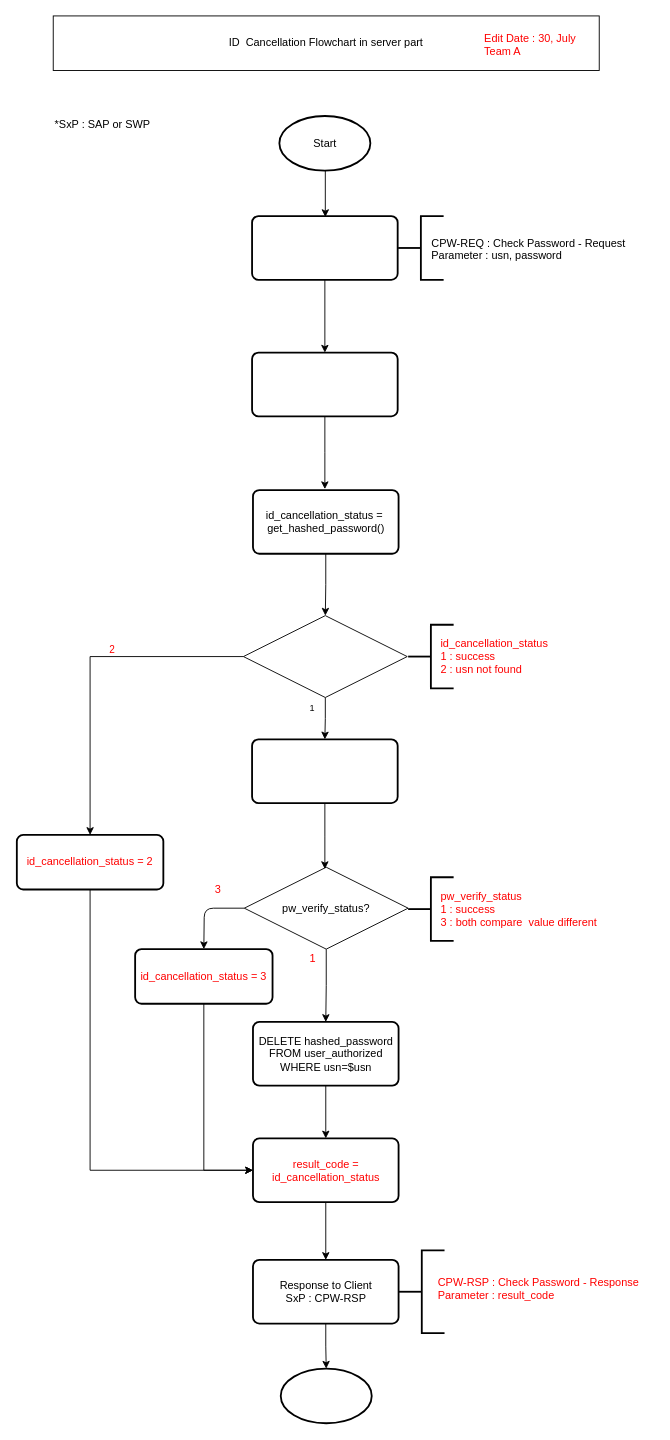
This 670x1440 diagram has some shape labels left out. Each missing label, with the centre of its shape:
"END" goes at (325,1395).
"id_cancellation_status?" goes at (325,656).
"pw_verify_status = password_verify($user_pw, $hashed_password)" goes at (324,771).
"Recieve from Client *SxP : CPW-REQ" goes at (324,247).
"SELECT hashed_password FROM user_authorized WHERE usn = $usn" goes at (324,384).
